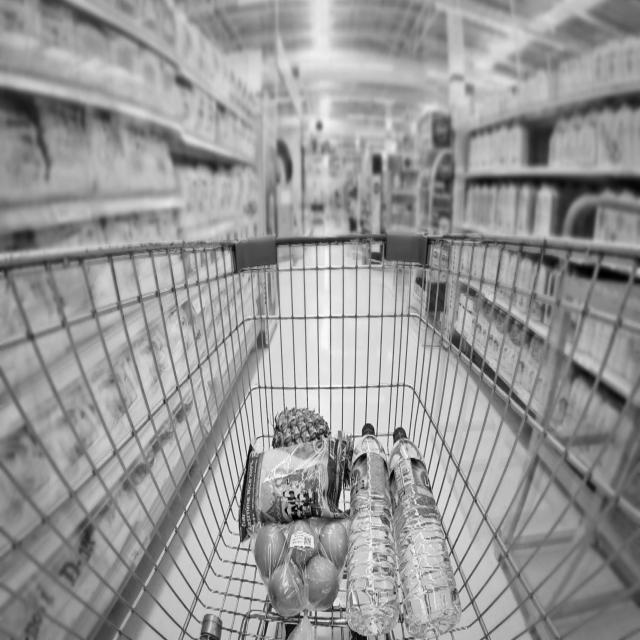dua: (271, 401, 360, 487)
tao: (252, 510, 348, 615)
